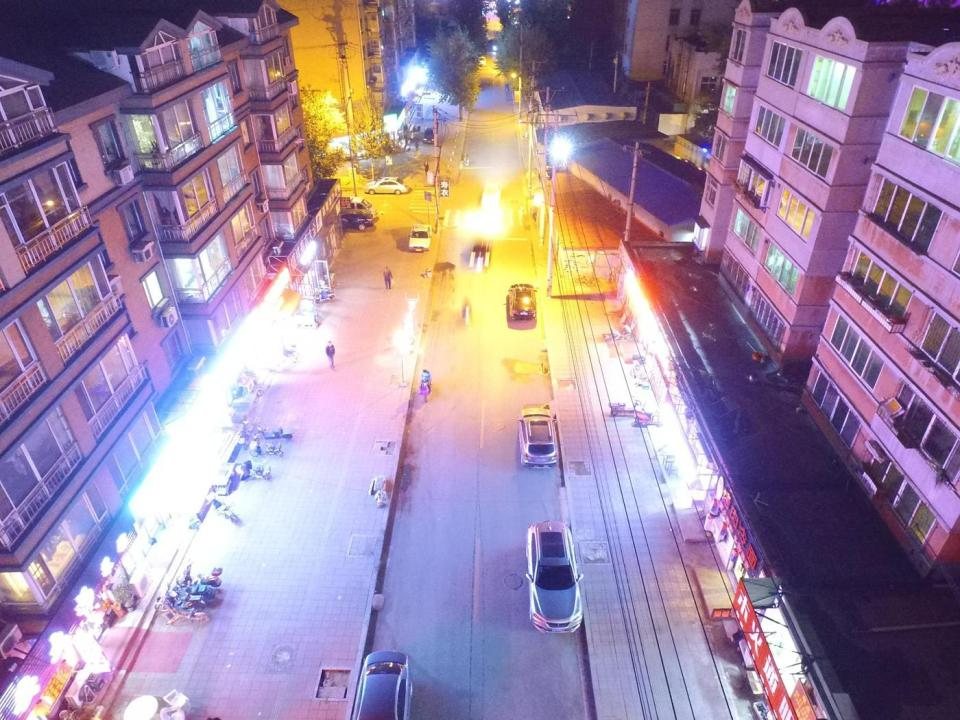car: (525, 520, 583, 635), (349, 650, 413, 720), (518, 407, 558, 469), (507, 282, 537, 321), (468, 231, 492, 276), (329, 207, 374, 231), (334, 195, 378, 219), (479, 176, 503, 218), (363, 175, 410, 195), (408, 222, 432, 252), (423, 125, 436, 144), (476, 52, 487, 67)
